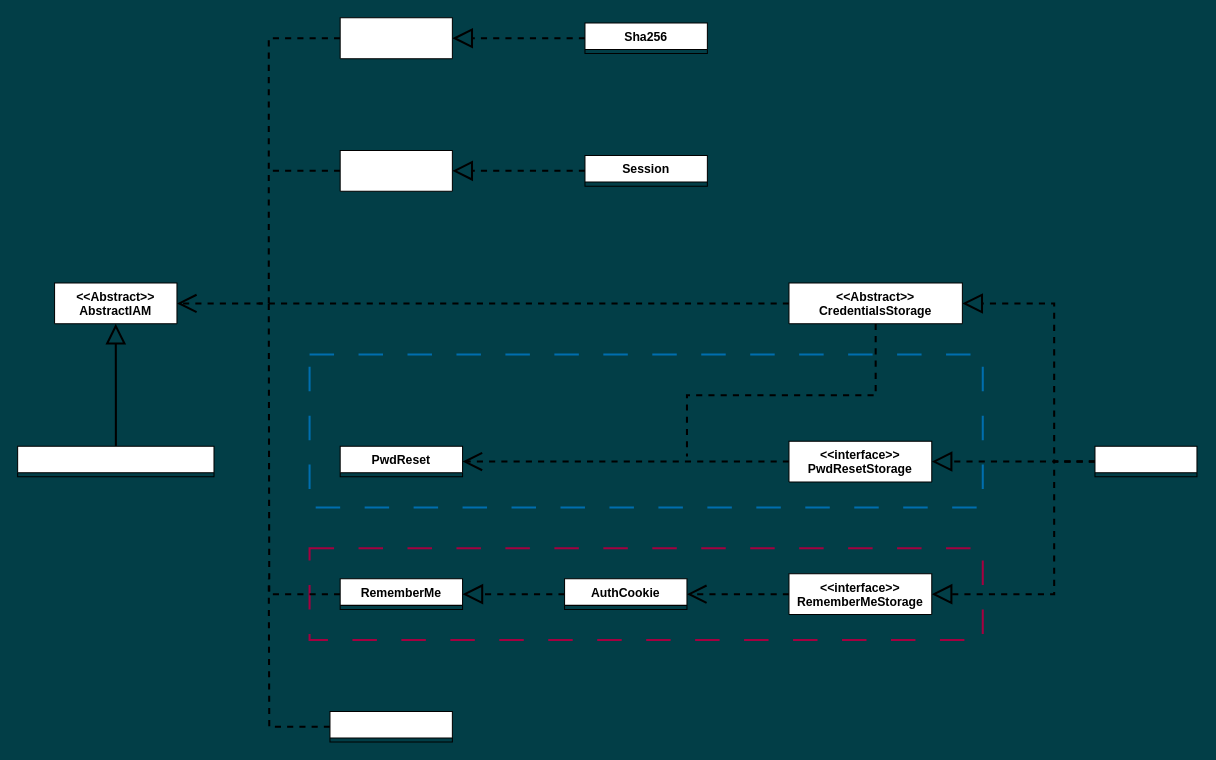
This 1216x760 diagram has some shape labels left out. The box of each missing label's shape, as (x1, y1, x2, y2) in pixels:
<<interface>> Authentication: (339, 149, 452, 191)
<<interface>> KDF: (339, 17, 452, 59)
Helper: (329, 710, 452, 742)
IdentityAndAccessManager: (17, 445, 214, 477)
MyStorage: (1094, 445, 1197, 477)
